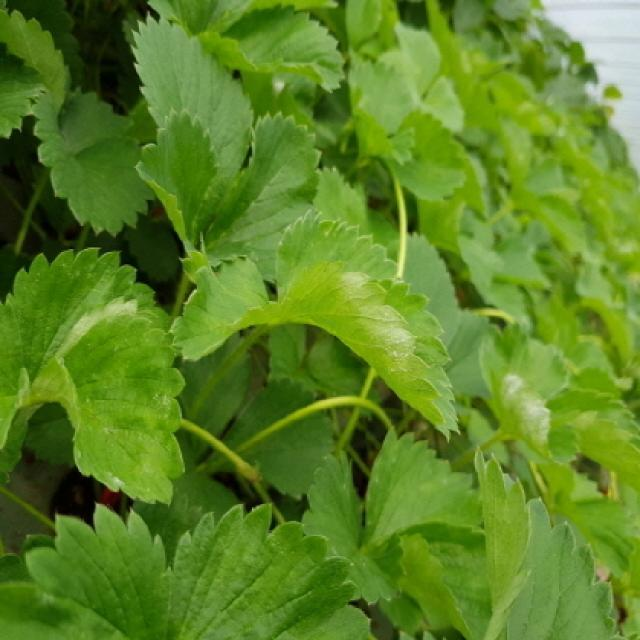powdery_mildew_leaf: (168, 210, 463, 442), (0, 247, 186, 507), (478, 331, 580, 464)
